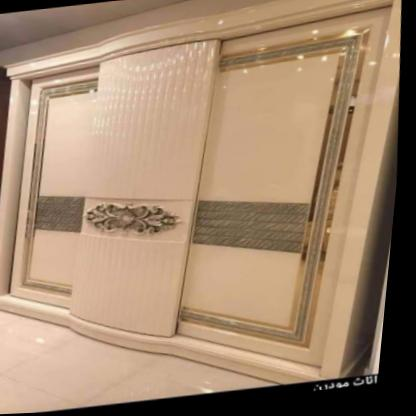Closet: (0, 0, 401, 389)
